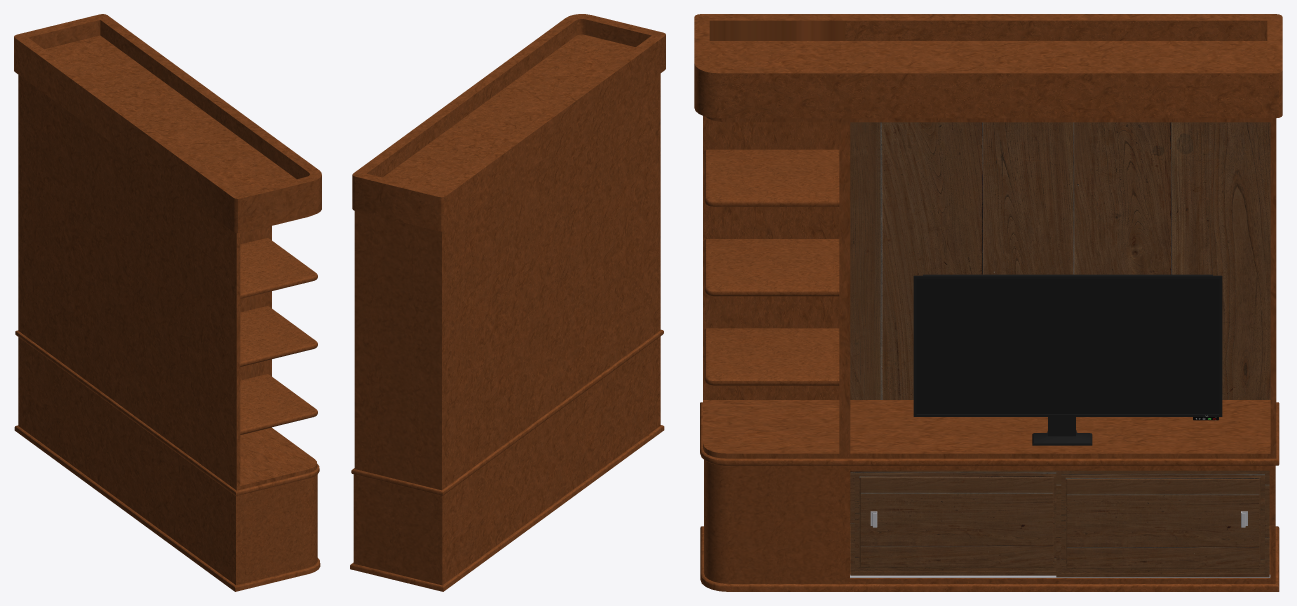
3 renders of one model, left to right at view 1: azimuth 30°, elevation 25°; view 2: azimuth 150°, elevation 25°; view 3: azimuth 270°, elevation 25°, orthographic. The views are drawn at different scales.
Visible parts, largest first — view 1: CupBoard_3; view 2: CupBoard_3; view 3: CupBoard_3, TV_2, RightDoor_4, LeftDoor_5.
Part boxes in pixels (x1,y1,x2,y2): CupBoard_3: (14, 14, 321, 591); CupBoard_3: (350, 14, 665, 591); CupBoard_3: (694, 14, 1282, 591); TV_2: (913, 274, 1222, 445); RightDoor_4: (1056, 470, 1269, 577); LeftDoor_5: (850, 470, 1056, 575).
Size of the model in its own units: 0.9875 by 3.94 by 4.06.
7 materials, 4 textured.
